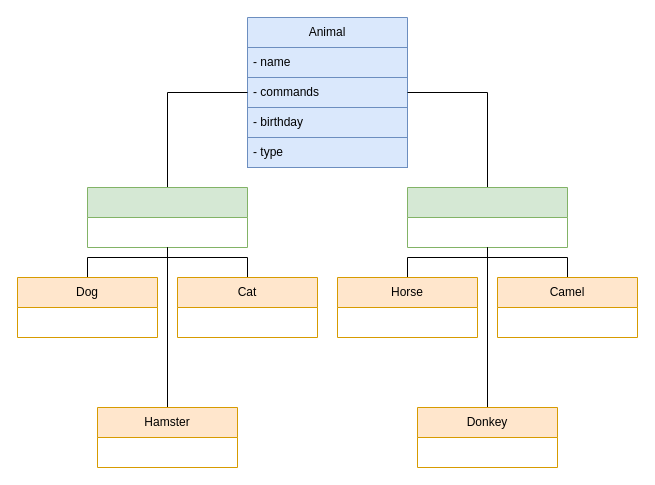
Some shapes in this 655 by 485 pixel diagram are drawn without their labels. Each missing label, with the centre of its shape:
Pack animal: (x=487, y=217)
Pet: (x=167, y=217)
